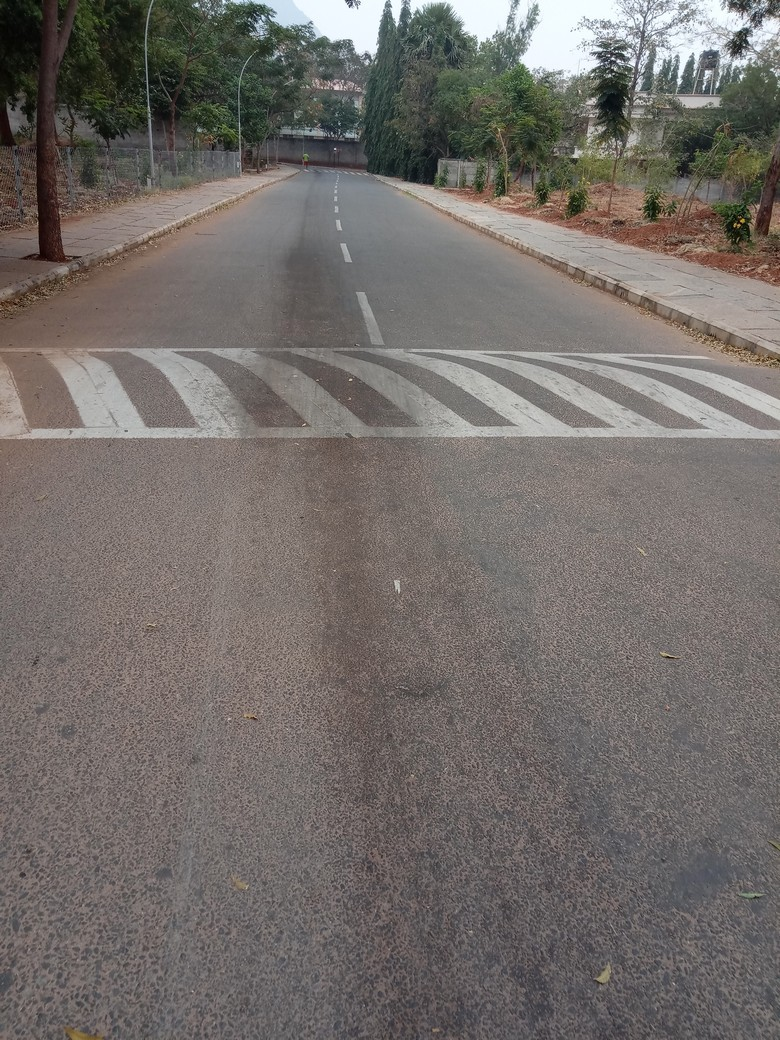bump: (1, 346, 780, 442)
